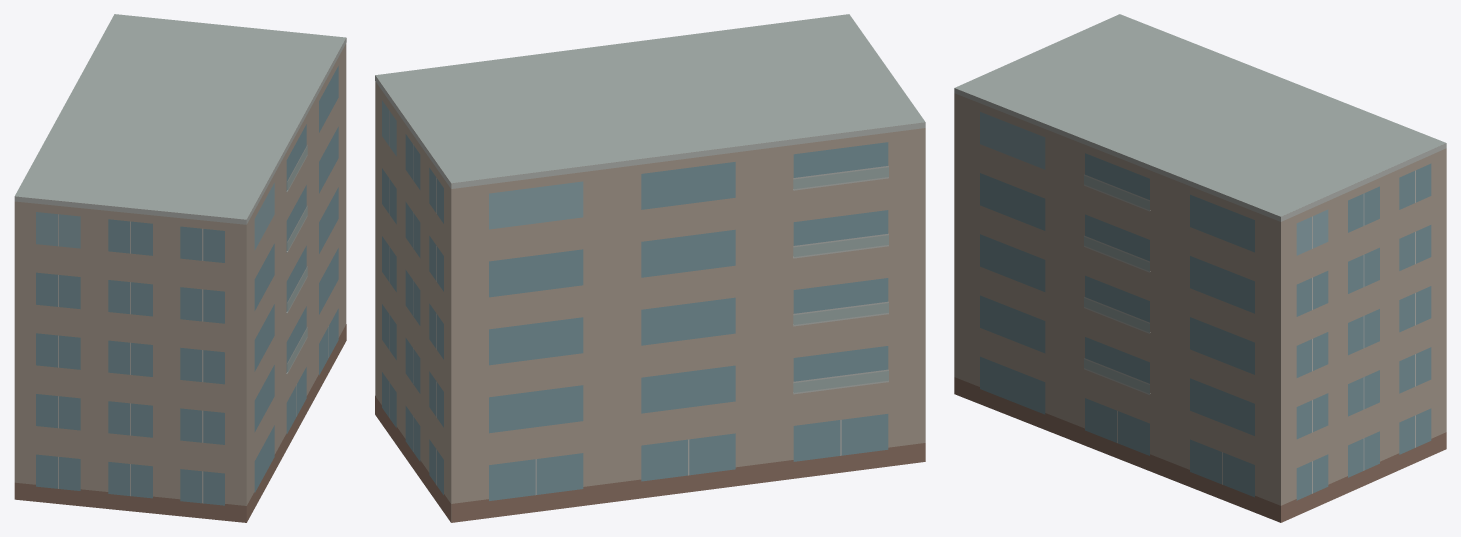
Rendered from survey-upis-32722324.glb.
3 renders of one model, left to right at view 1: azimuth 30°, elevation 25°; view 2: azimuth 150°, elevation 25°; view 3: azimuth 270°, elevation 25°, orthographic. The views are drawn at different scales.
Parts seen in each view (by area): view 1: survey-upis-32722324.tmp; view 2: survey-upis-32722324.tmp; view 3: survey-upis-32722324.tmp.
Boxes of the visible parts, x1,y1,x2,y2 form: survey-upis-32722324.tmp: (14, 14, 346, 522); survey-upis-32722324.tmp: (375, 14, 925, 522); survey-upis-32722324.tmp: (954, 14, 1446, 522).
Bounding box in the file's own units: 20.61 × 14.5 × 21.14.
